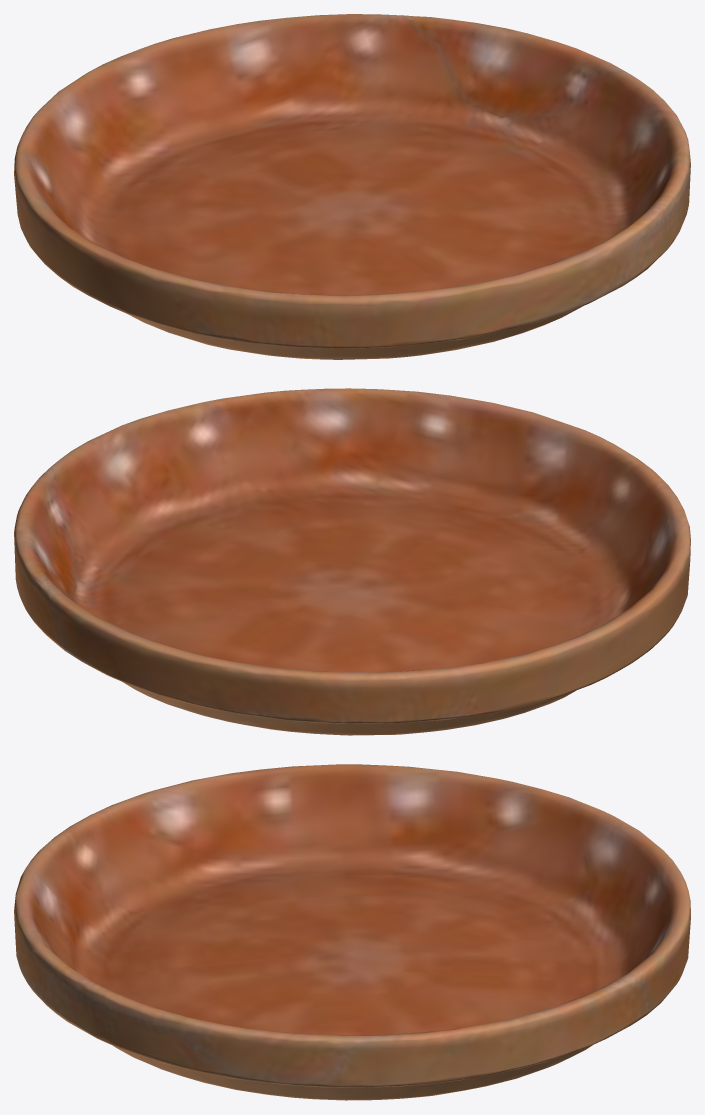
File: gso_cole_hardware_plant_saucer_glazed_9.glb
3 renders of one model, top to bottom at view 1: azimuth 30°, elevation 25°; view 2: azimuth 150°, elevation 25°; view 3: azimuth 270°, elevation 25°, orthographic.
Visible parts, largest first — view 1: z-up-to-y-up; view 2: z-up-to-y-up; view 3: z-up-to-y-up.
Part boxes in pixels (bbox=[...]): z-up-to-y-up: bbox=[14, 14, 690, 359]; z-up-to-y-up: bbox=[14, 388, 690, 735]; z-up-to-y-up: bbox=[14, 764, 690, 1100].
Bounding box in the file's own units: 0.2286 × 0.037 × 0.2286.
1 material, 1 textured.
